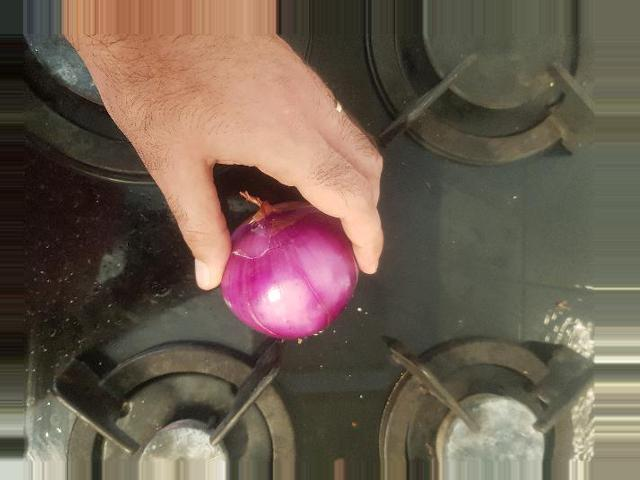onion: (347, 273, 461, 403)
